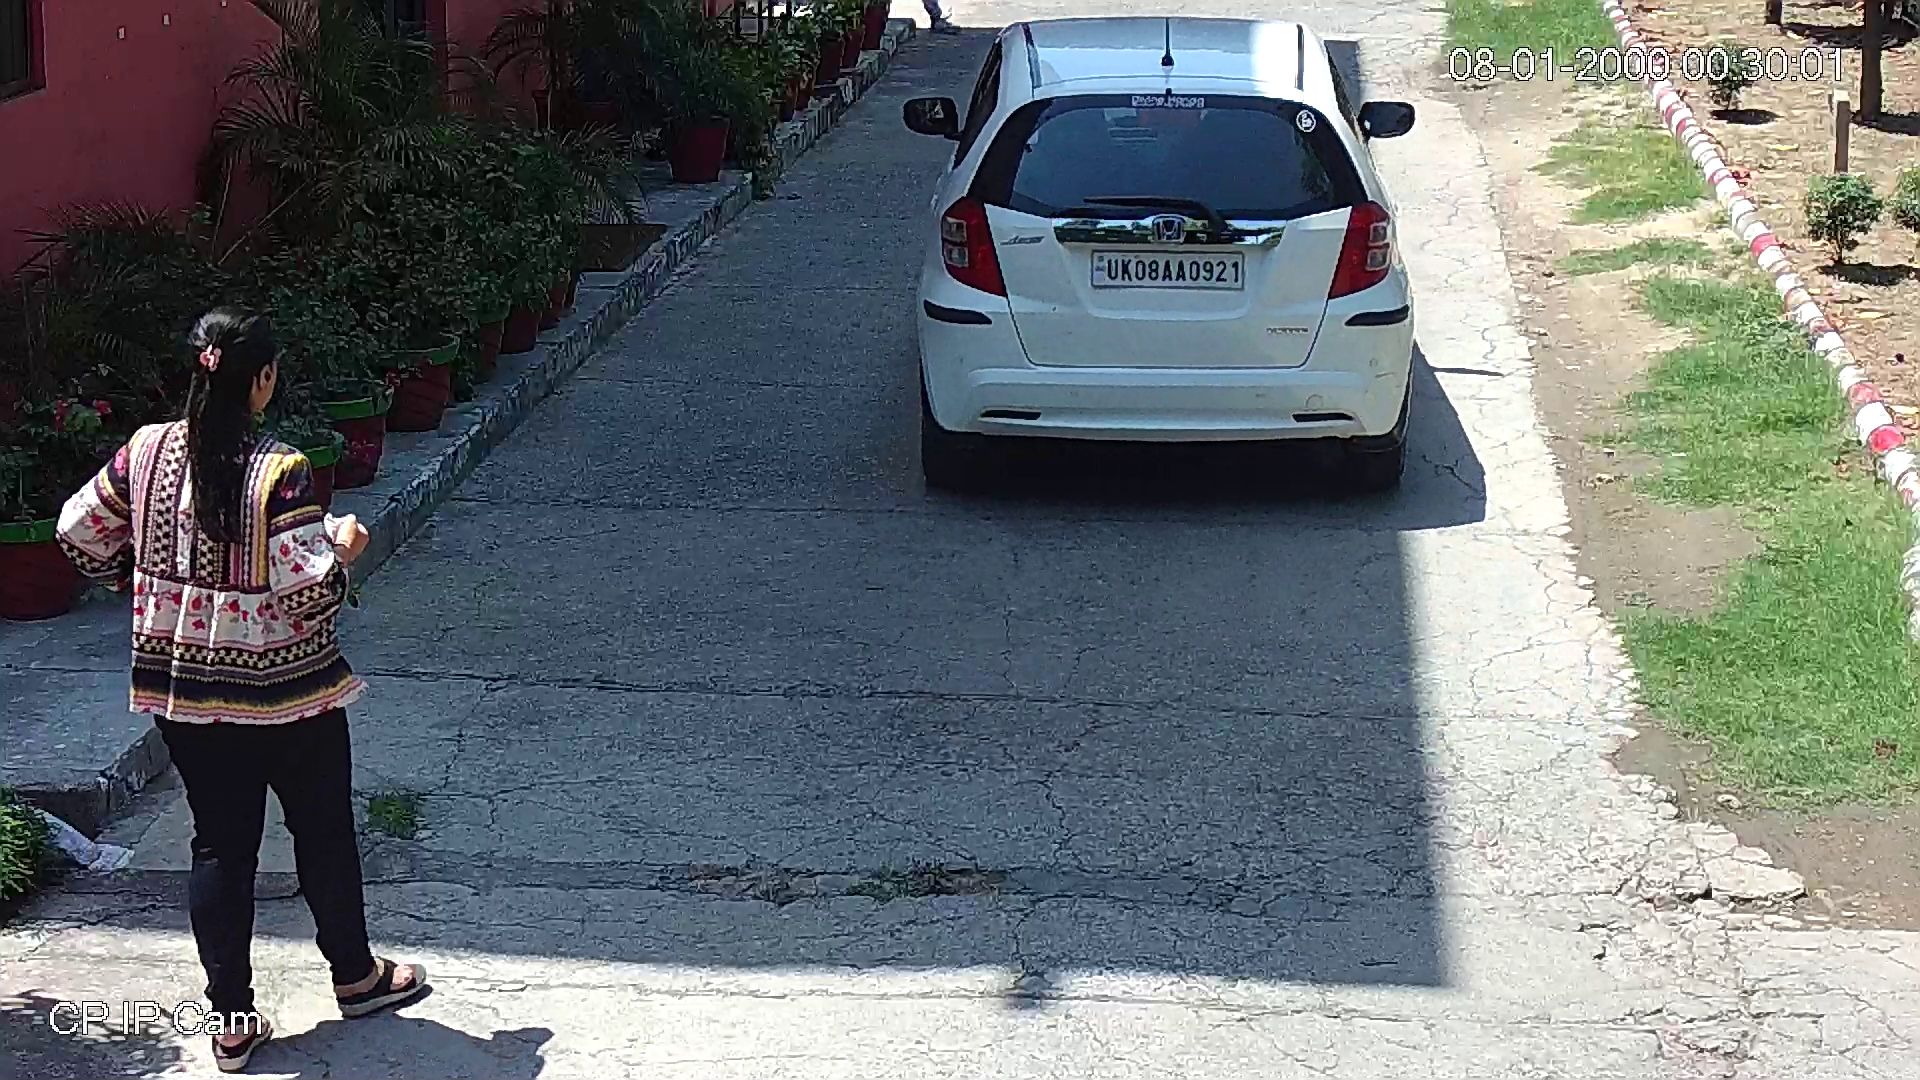plate: (1085, 248, 1247, 291)
